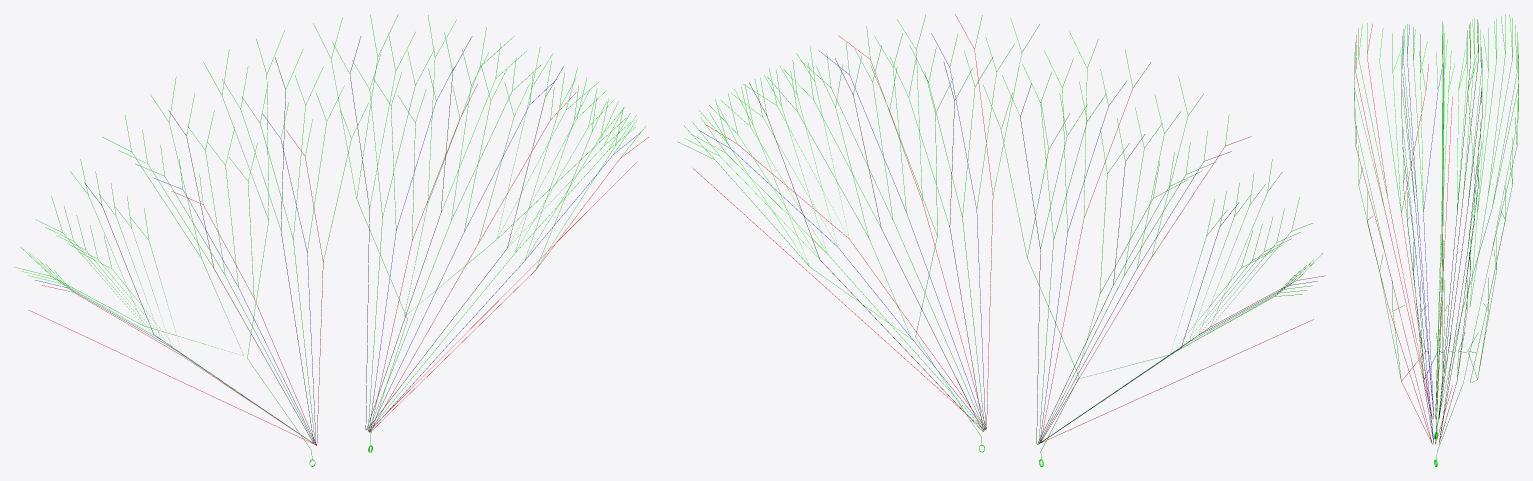
The model's file is lines.obj.
The picture shows the model from 3 angles, left to right: view 1: azimuth 30°, elevation 25°; view 2: azimuth 150°, elevation 25°; view 3: azimuth 270°, elevation 25°; orthographic projection. The views are drawn at different scales.
Visible parts, largest first — view 1: Lines_Mesh.003; view 2: Lines_Mesh.003; view 3: Lines_Mesh.003.
Boxes of the visible parts, left/top/right/bottom form: Lines_Mesh.003: left=14, top=14, right=648, bottom=466; Lines_Mesh.003: left=677, top=14, right=1325, bottom=466; Lines_Mesh.003: left=1354, top=14, right=1518, bottom=466.
Size of the model in its own units: 7.63 by 4.78 by 1.83.
